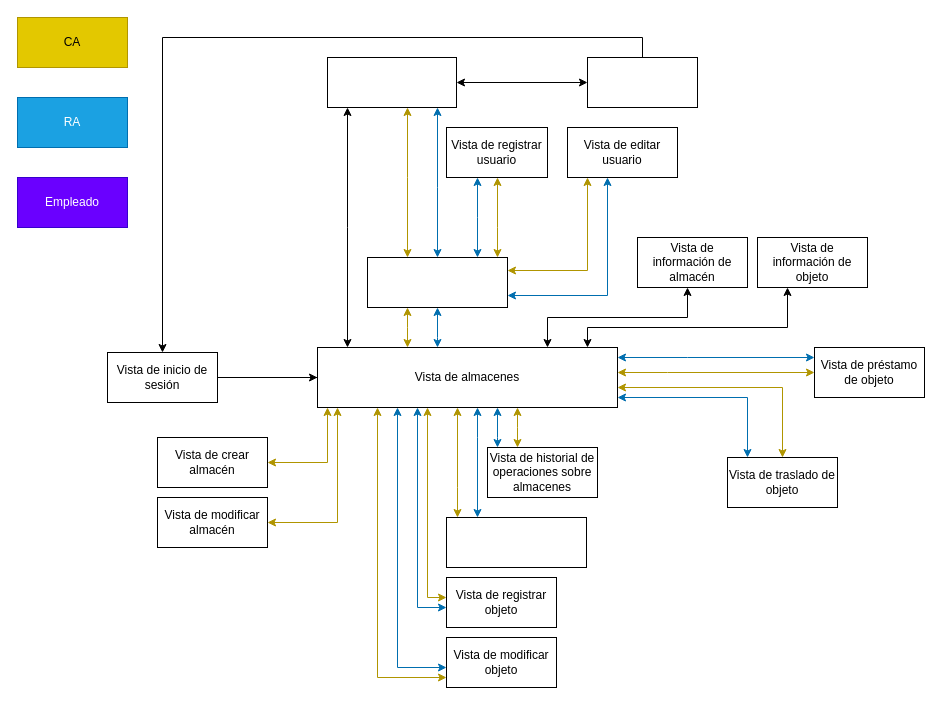
The diagram is 942 pixels wide and 705 high, and some of its shapes have lost their labels. Here are the shapes that lost their labels. From the top down, the centre of each, then its label:
pixel 391 82: Vista de perfil de usuario
pixel 642 82: Vista de cierre de sesión
pixel 437 282: Vista de usuarios
pixel 516 542: Vista de información de operación sobre objeto
